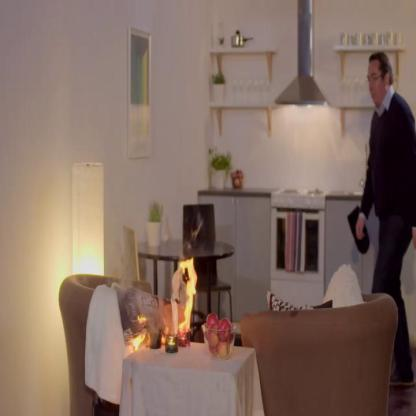fire: (178, 254, 198, 330)
